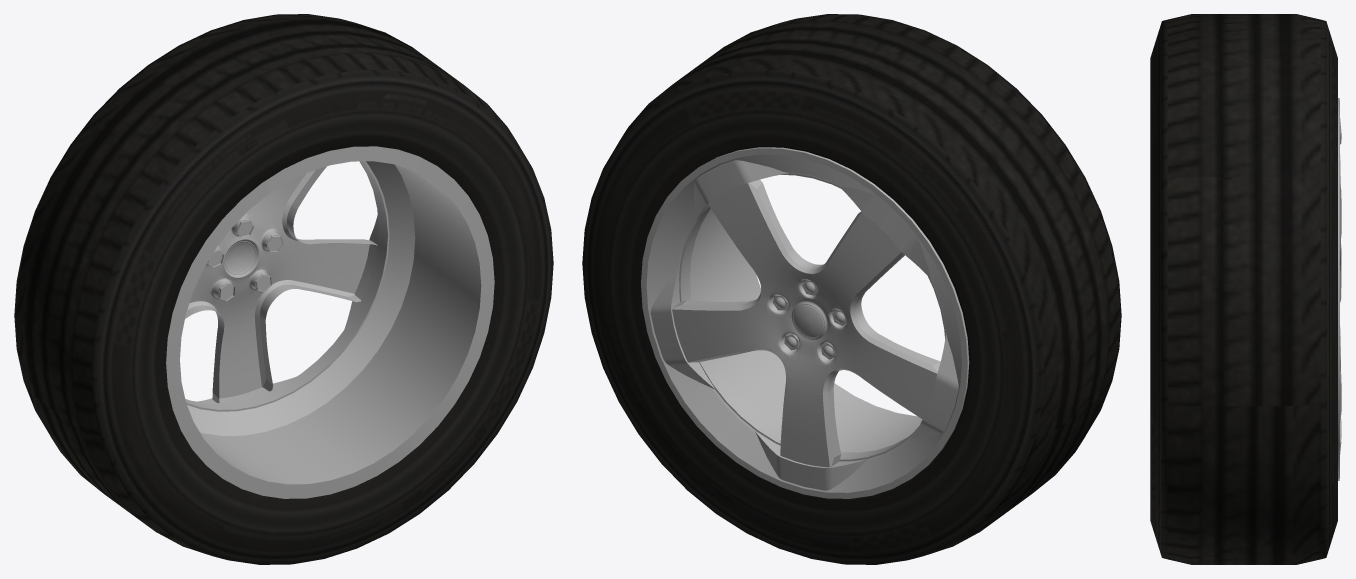
3 views of the same model, side by side, from view 1: azimuth 30°, elevation 25°; view 2: azimuth 150°, elevation 25°; view 3: azimuth 270°, elevation 25° (orthographic).
Visible parts, largest first — view 1: Y191_13_901C_L_Y191_13_901C_L_2_DM, Y191_13_901C_L_1_DaS_Y191_13_901C_L; view 2: Y191_13_901C_L_Y191_13_901C_L_2_DM, Y191_13_901C_L_1_DaS_Y191_13_901C_L; view 3: Y191_13_901C_L_Y191_13_901C_L_2_DM, Y191_13_901C_L_1_DaS_Y191_13_901C_L.
Part boxes in pixels (x1,y1,x2,y2): Y191_13_901C_L_Y191_13_901C_L_2_DM: (14,14,553,564); Y191_13_901C_L_1_DaS_Y191_13_901C_L: (166,146,494,498); Y191_13_901C_L_Y191_13_901C_L_2_DM: (582,14,1121,564); Y191_13_901C_L_1_DaS_Y191_13_901C_L: (641,147,969,498); Y191_13_901C_L_Y191_13_901C_L_2_DM: (1150,14,1337,564); Y191_13_901C_L_1_DaS_Y191_13_901C_L: (1338,98,1341,480).
Size of the model in its own units: 60.4 by 60.4 by 20.95.
